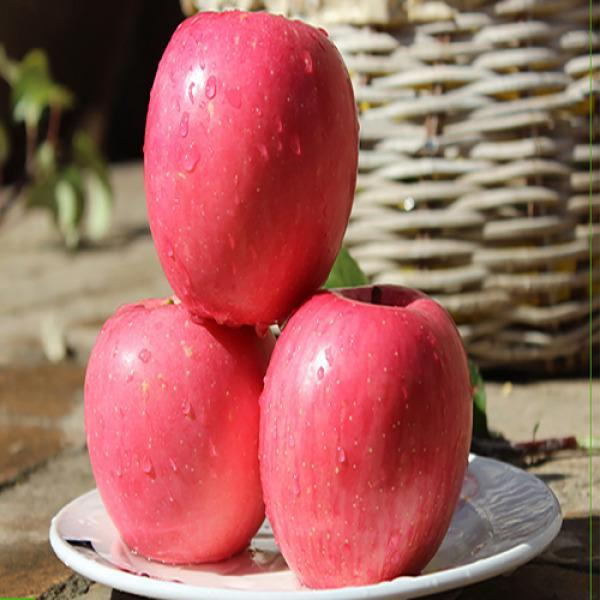apple: (143, 14, 356, 327), (257, 284, 474, 586), (82, 298, 273, 565)
